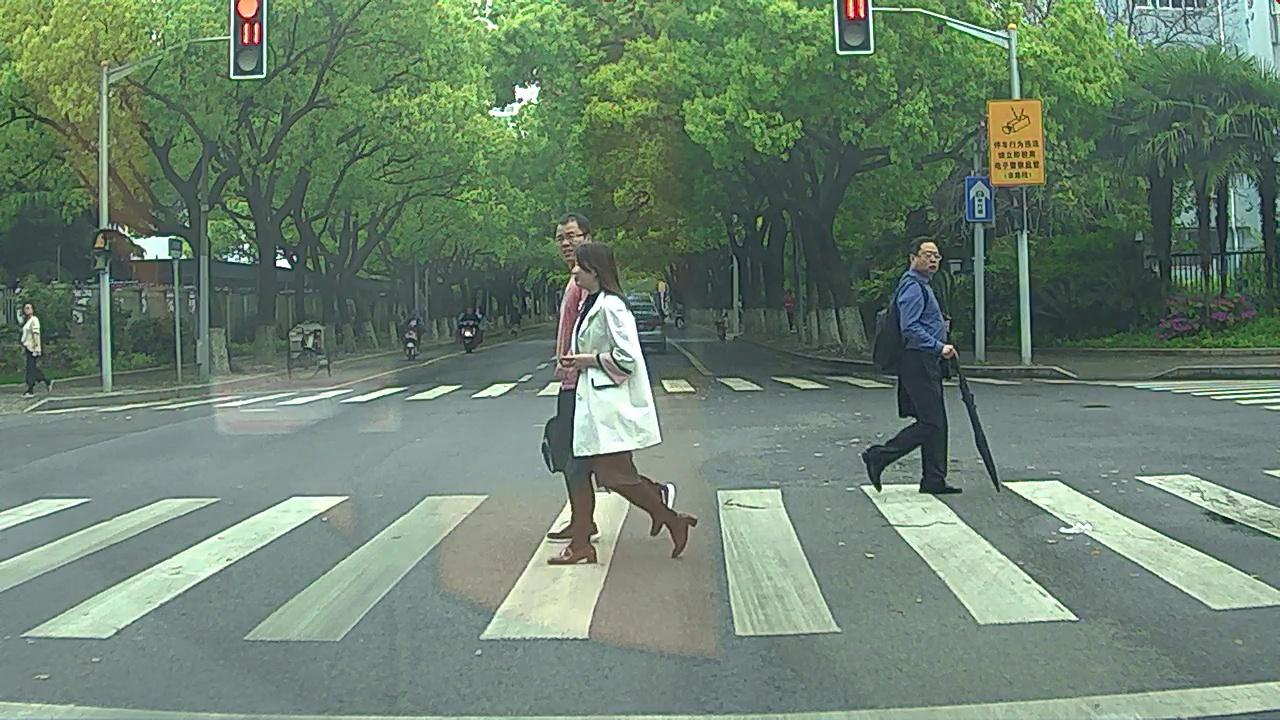traffic_light: (233, 1, 264, 74), (840, 1, 871, 54)
